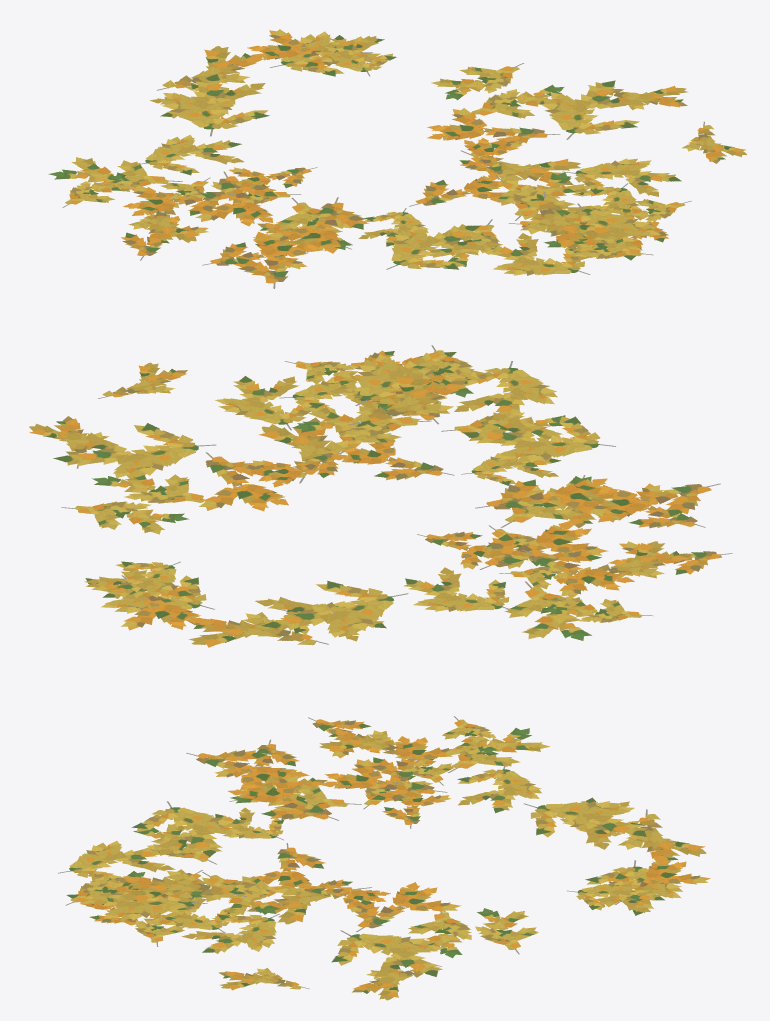
Rendered from bouleau_jeune_a.fbx.
3 views of the same model, one above another, from view 1: azimuth 30°, elevation 25°; view 2: azimuth 150°, elevation 25°; view 3: azimuth 270°, elevation 25° (orthographic). The views are drawn at different scales.
Visible parts, largest first — view 1: bouleau_jeune_a_feuilles_sol; view 2: bouleau_jeune_a_feuilles_sol; view 3: bouleau_jeune_a_feuilles_sol.
Part boxes in pixels (x1,y1,x2,y2): bouleau_jeune_a_feuilles_sol: (48, 29, 746, 288); bouleau_jeune_a_feuilles_sol: (29, 345, 732, 647); bouleau_jeune_a_feuilles_sol: (58, 716, 710, 1000).
Size of what is drawn, in the model's own units: 2.03 by 0.0059 by 2.07.
